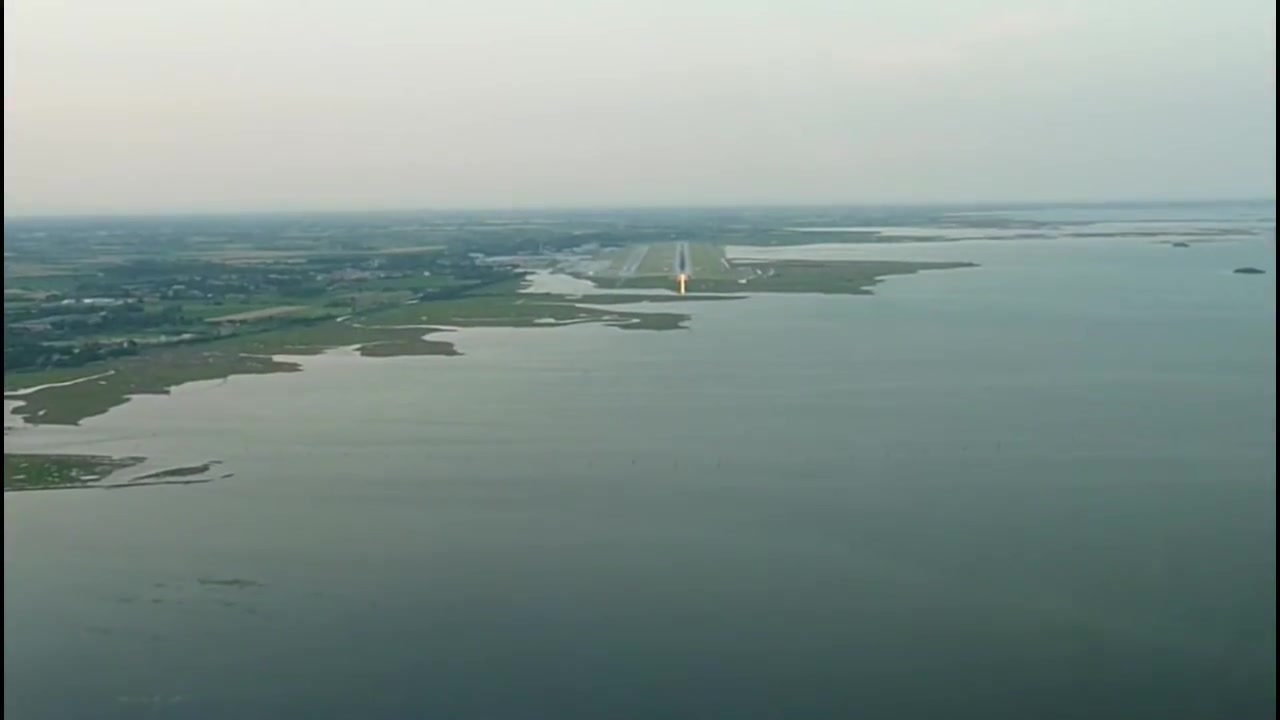runway: (617, 242, 652, 279), (671, 241, 692, 279)
